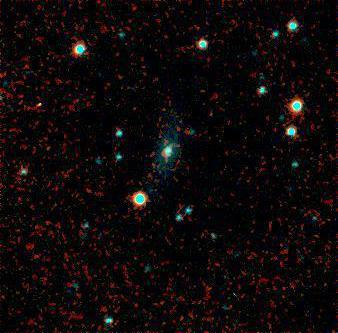star: (196, 106, 226, 136)
